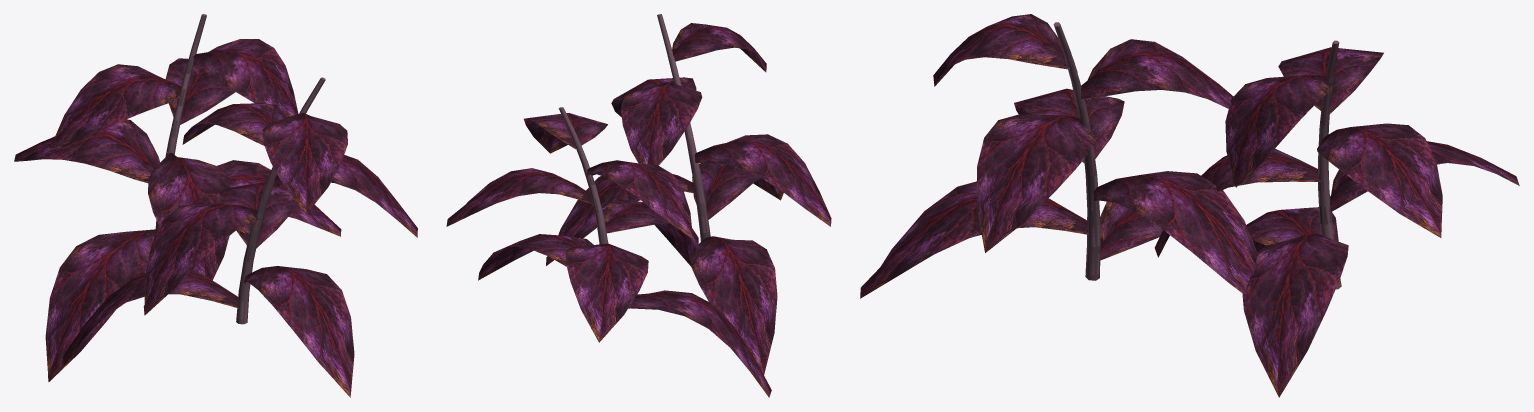
Rendered from broadgrass_06.glb.
3 views of the same model, side by side, from view 1: azimuth 30°, elevation 25°; view 2: azimuth 150°, elevation 25°; view 3: azimuth 270°, elevation 25° (orthographic). The views are drawn at different scales.
Parts seen in each view (by area): view 1: export; view 2: export; view 3: export.
Boxes of the visible parts, x1,y1,x2,y2 form: export: (14, 14, 417, 397); export: (446, 14, 831, 397); export: (860, 14, 1519, 397).
Bounding box in the file's own units: 0.7277 × 0.7113 × 1.1.
2 materials, 2 textured.
